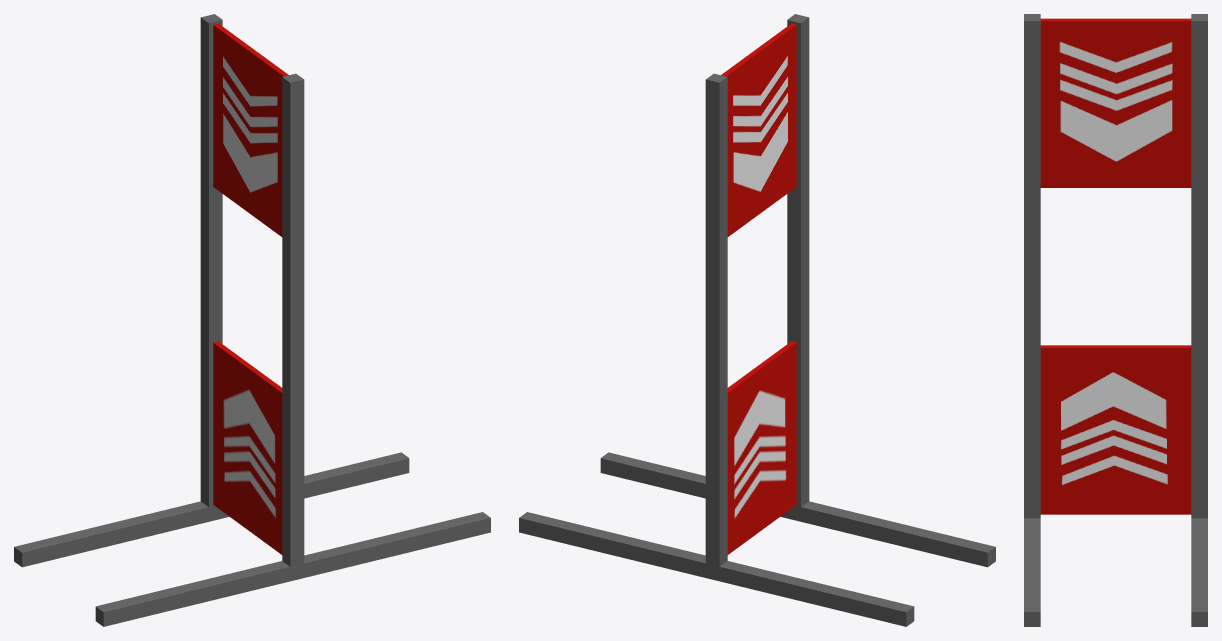
Rendered from Banner.fbx.
3 views of the same model, side by side, from view 1: azimuth 30°, elevation 25°; view 2: azimuth 150°, elevation 25°; view 3: azimuth 270°, elevation 25° (orthographic). The views are drawn at different scales.
Parts seen in each view (by area): view 1: BannerUpper, BannerLower, pCube4, pCube3, pCube5, pCube2; view 2: BannerUpper, BannerLower, pCube5, pCube2, pCube4, pCube3; view 3: BannerLower, BannerUpper, pCube4, pCube5, pCube2, pCube3.
Boxes of the visible parts, x1,y1,x2,y2 form: BannerUpper: (213, 23, 288, 236); BannerLower: (213, 341, 282, 554); pCube4: (282, 73, 304, 568); pCube3: (95, 512, 490, 626); pCube5: (200, 14, 222, 509); pCube2: (14, 452, 409, 567); BannerUpper: (721, 23, 796, 236); BannerLower: (727, 341, 796, 554); pCube5: (705, 73, 727, 566); pCube2: (519, 512, 914, 626); pCube4: (787, 14, 809, 506); pCube3: (600, 452, 995, 567); BannerLower: (1040, 345, 1191, 514); BannerUpper: (1040, 18, 1191, 187); pCube4: (1024, 14, 1040, 518); pCube5: (1191, 14, 1207, 518); pCube2: (1191, 518, 1207, 626); pCube3: (1024, 518, 1040, 626).
Bounding box in the file's own units: 2.5 × 3.07 × 1.
